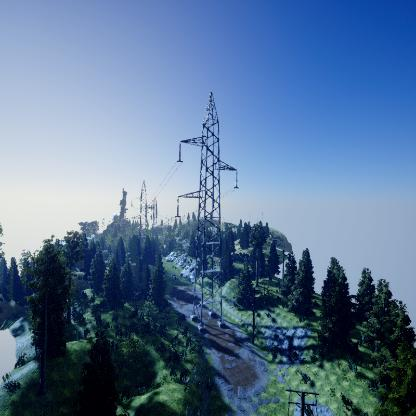tower: (174, 88, 245, 332)
